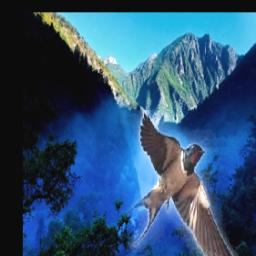Swallow: (120, 110, 239, 256)
